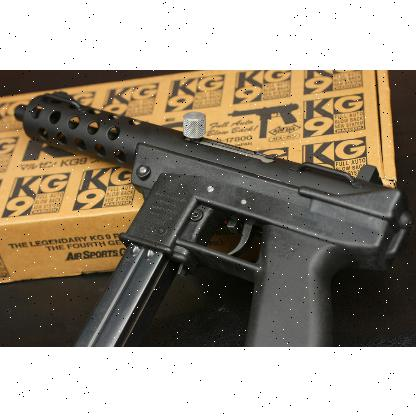gun: (15, 90, 416, 346)
